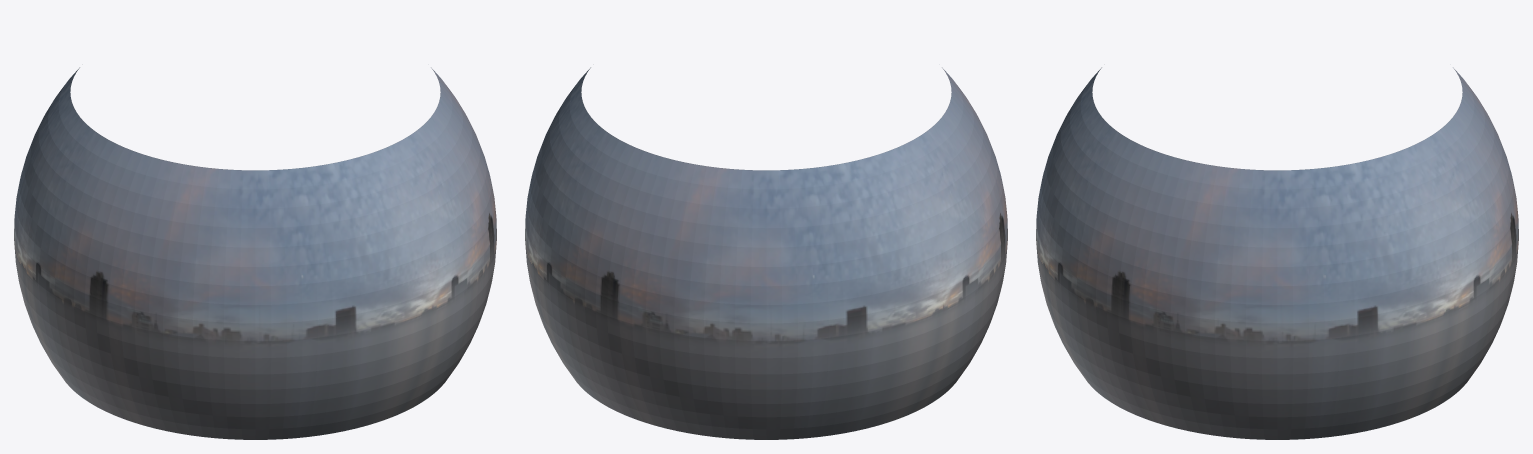
File: z-exterior.full.baee2c6e.glb
3 views of the same model, side by side, from view 1: azimuth 30°, elevation 25°; view 2: azimuth 150°, elevation 25°; view 3: azimuth 270°, elevation 25° (orthographic).
Visible parts, largest first — view 1: exterior_city; view 2: exterior_city; view 3: exterior_city.
Part boxes in pixels (x1,y1,x2,y2): exterior_city: (14, 67, 496, 439); exterior_city: (525, 67, 1007, 439); exterior_city: (1036, 67, 1518, 439).
Bounding box in the file's own units: 800 × 481 × 800.
Materials: 1 (1 with a texture image).
